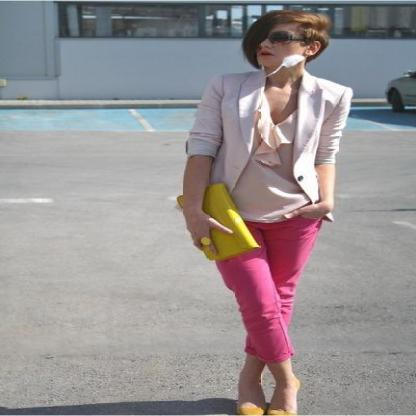bag: (203, 184, 259, 260)
jacket: (185, 67, 369, 203)
pants: (216, 214, 318, 364)
shirt: (228, 113, 324, 222)
shoe: (212, 391, 311, 415)
